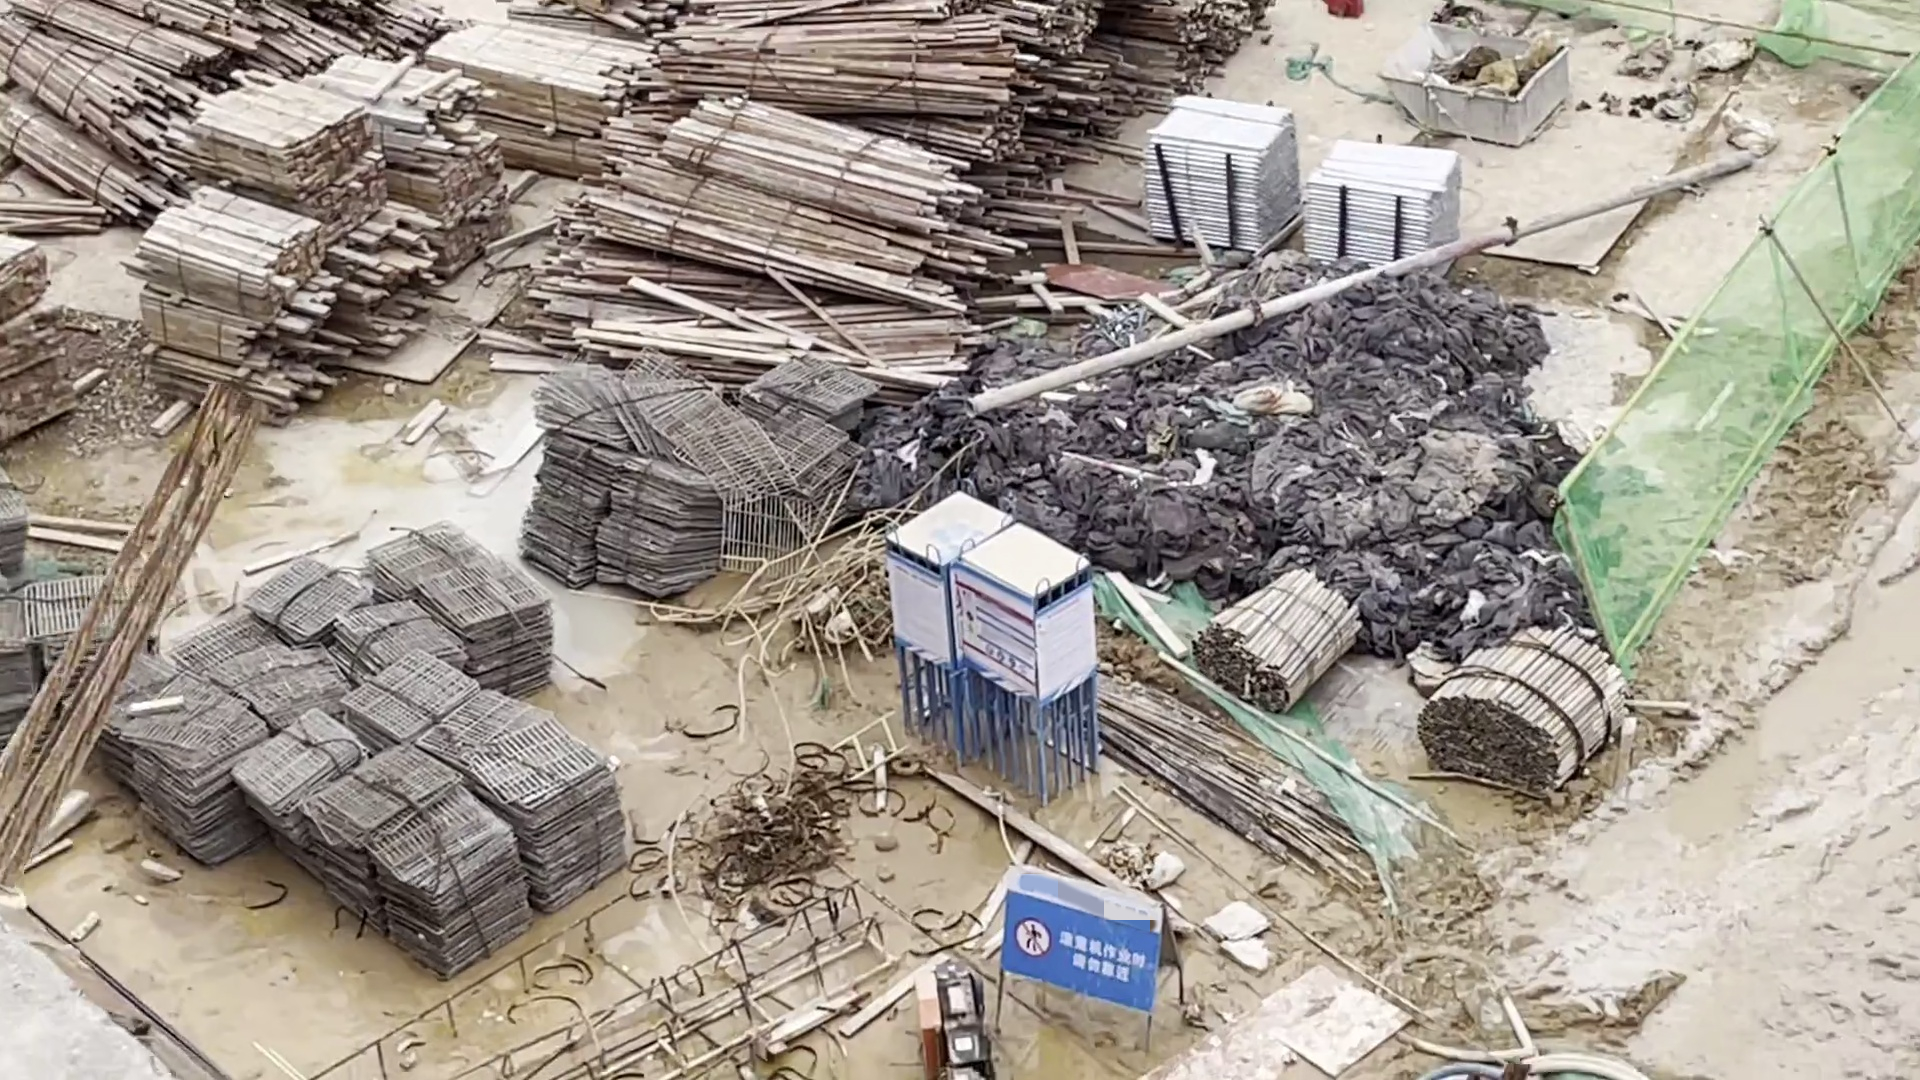hopper: (1379, 22, 1571, 145)
scaffold: (1141, 95, 1307, 262), (1304, 131, 1462, 298)
slogan: (1007, 901, 1158, 1001)
wood: (559, 109, 978, 380), (651, 4, 1145, 148), (133, 191, 330, 417), (3, 1, 211, 214), (430, 13, 647, 179), (367, 55, 521, 284), (1419, 624, 1629, 789), (210, 69, 382, 237), (1196, 568, 1364, 702), (200, 1, 451, 69)
